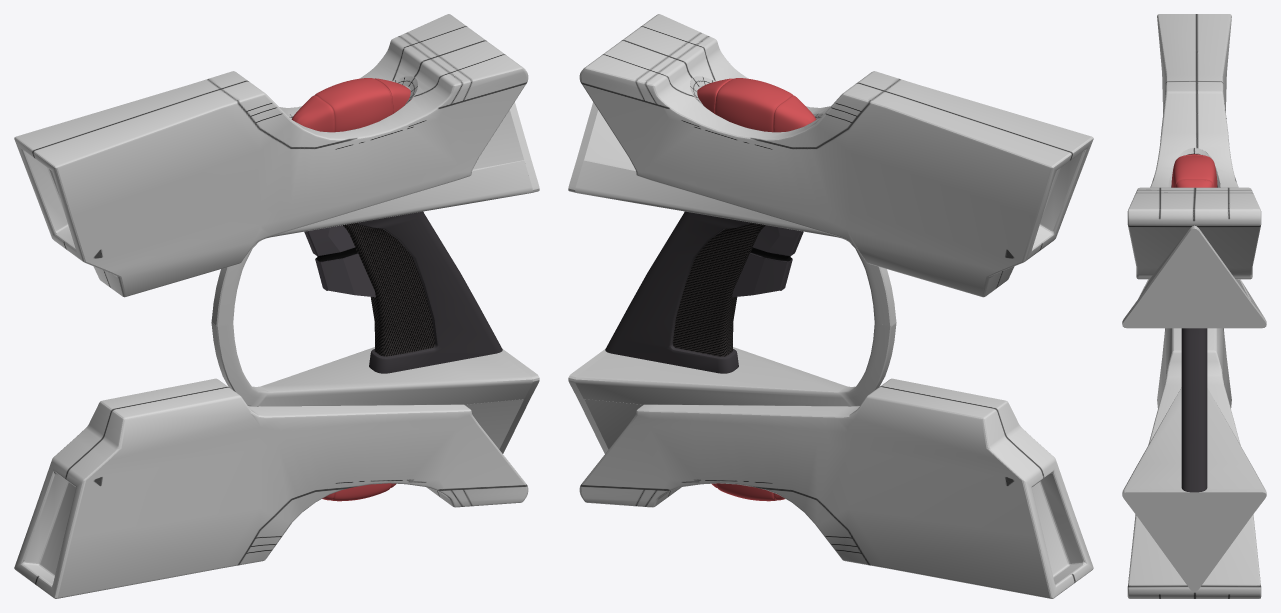
3 renders of one model, left to right at view 1: azimuth 30°, elevation 25°; view 2: azimuth 150°, elevation 25°; view 3: azimuth 270°, elevation 25°, orthographic. The views are drawn at different scales.
Visible parts, largest first — view 1: 球体.018, 球体.022, 平面.014, 平面.016, 球体.019, 平面.015, 球体.021; view 2: 球体.018, 球体.022, 平面.014, 平面.016, 球体.019, 平面.015, 球体.021; view 3: 平面.014, 球体.018, 球体.022, 平面.016, 球体.019, 球体.017.
Boxes of the visible parts, box(x1,y1,x2,y2) form: 球体.018: box(14, 14, 528, 297); 球体.022: box(14, 378, 528, 598); 平面.014: box(211, 102, 539, 453); 平面.016: box(343, 211, 502, 373); 球体.019: box(291, 78, 410, 132); 平面.015: box(304, 225, 375, 297); 球体.021: box(322, 483, 396, 501); 球体.018: box(579, 14, 1093, 297); 球体.022: box(579, 378, 1093, 598); 平面.014: box(568, 102, 896, 453); 平面.016: box(605, 211, 765, 373); 球体.019: box(694, 78, 816, 132); 平面.015: box(732, 225, 803, 297); 球体.021: box(711, 483, 784, 501); 平面.014: box(1122, 225, 1266, 591); 球体.018: box(1127, 14, 1261, 279); 球体.022: box(1127, 328, 1261, 598); 平面.016: box(1181, 328, 1207, 492); 球体.019: box(1171, 154, 1217, 187); 球体.017: box(1168, 148, 1220, 187).
Size of the model in its own units: 244 by 234 by 73.16.
